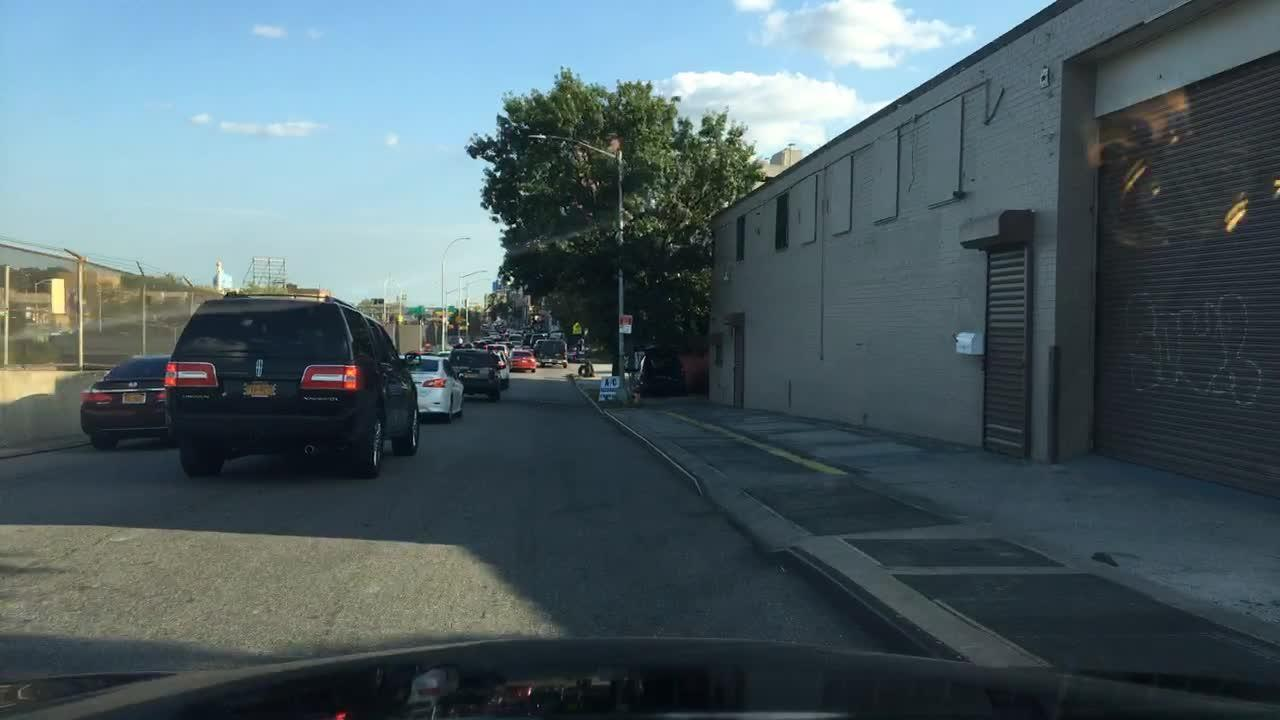Honda: (127, 380, 143, 390)
lincoln: (252, 354, 266, 383)
